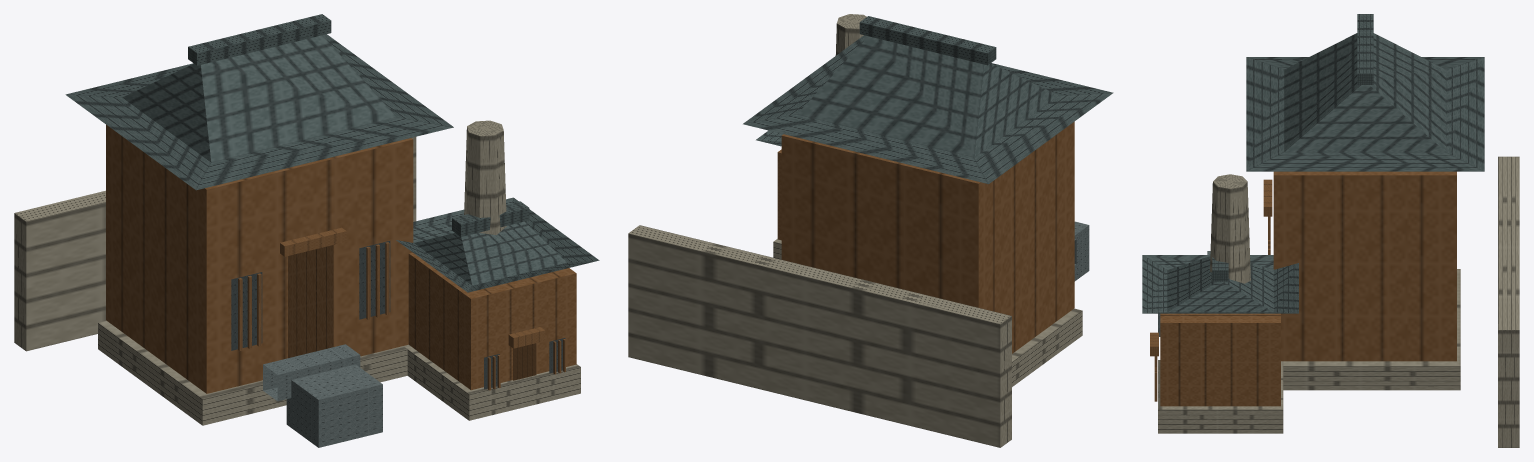
The model's file is domestic-SMITH-3-lod1.glb.
3 renders of one model, left to right at view 1: azimuth 30°, elevation 25°; view 2: azimuth 150°, elevation 25°; view 3: azimuth 270°, elevation 25°, orthographic. The views are drawn at different scales.
Size of the model in its own units: 0.85 by 0.691 by 0.7825.
Materials: 1 (1 with a texture image).
